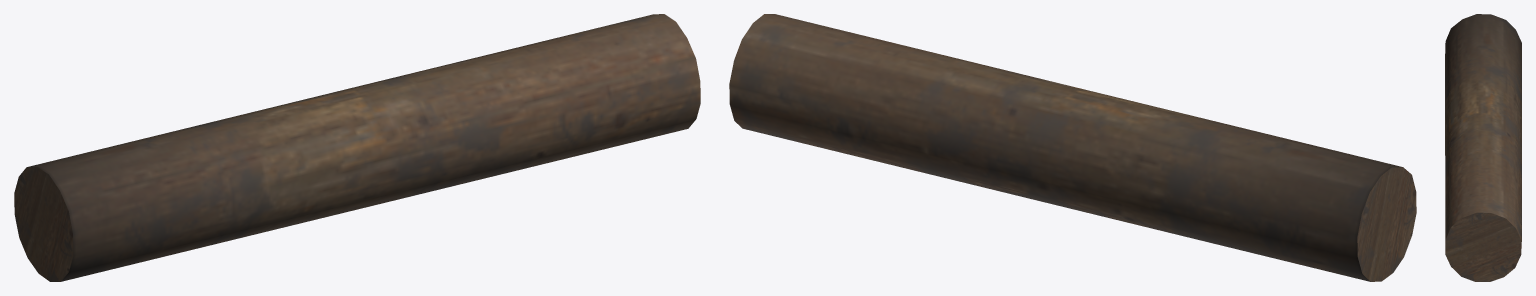
File: Watermill_Long.fbx
3 views of the same model, side by side, from view 1: azimuth 30°, elevation 25°; view 2: azimuth 150°, elevation 25°; view 3: azimuth 270°, elevation 25° (orthographic). The views are drawn at different scales.
Visible parts, largest first — view 1: Watermill_Long; view 2: Watermill_Long; view 3: Watermill_Long.
Boxes of the visible parts, left/top/right/bottom form: Watermill_Long: left=14, top=14, right=700, bottom=281; Watermill_Long: left=729, top=14, right=1416, bottom=281; Watermill_Long: left=1445, top=14, right=1521, bottom=281.
Bounding box in the file's own units: 1.57 × 0.2557 × 0.2571.
